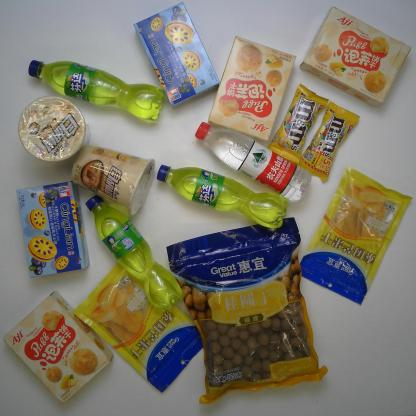Chocolate: (266, 82, 330, 164), (298, 103, 362, 181)
Dessert: (4, 290, 113, 405), (298, 6, 413, 107), (205, 35, 296, 145), (132, 2, 220, 106), (15, 182, 89, 280)
Dried Food: (164, 213, 326, 407)
Dried Fruit: (74, 260, 204, 396), (296, 166, 415, 307)
Drink: (85, 192, 182, 311), (194, 121, 312, 202), (154, 162, 289, 230), (27, 56, 164, 121)
Instant Noodles: (69, 142, 155, 215), (18, 93, 90, 162)
